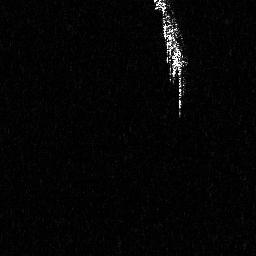ship: (150, 1, 191, 120)
